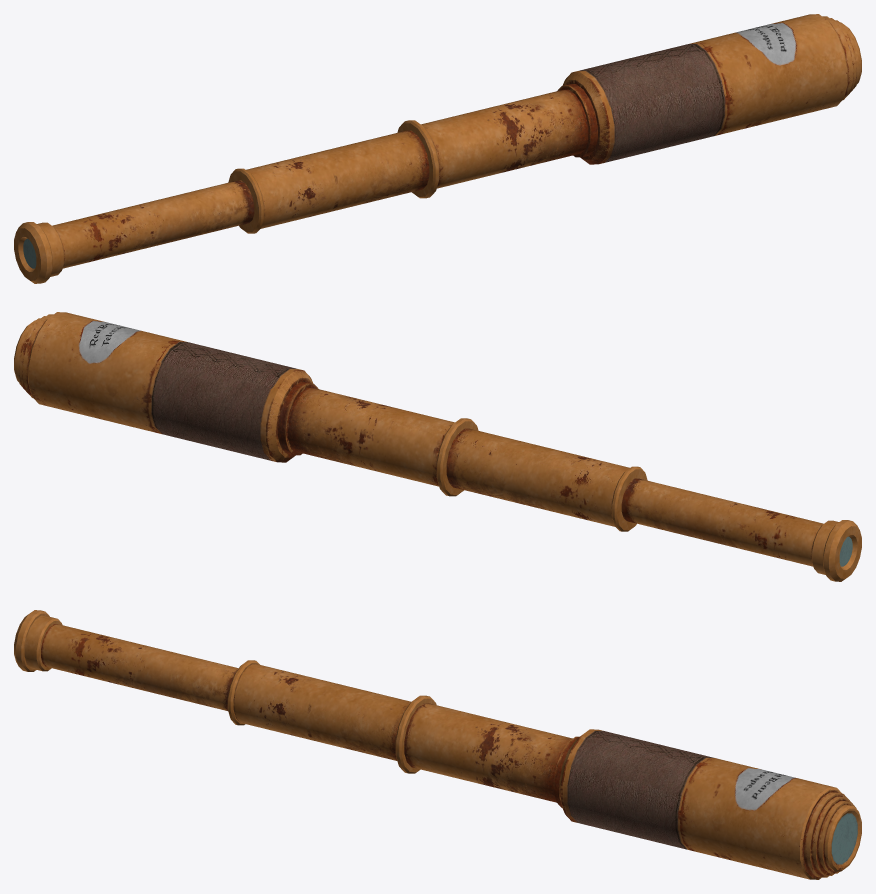
File: pirate_telescope.glb
3 views of the same model, one above another, from view 1: azimuth 30°, elevation 25°; view 2: azimuth 150°, elevation 25°; view 3: azimuth 330°, elevation 25° (orthographic).
Parts seen in each view (by area): view 1: Cylinder; view 2: Cylinder; view 3: Cylinder.
Boxes of the visible parts, box(x1,y1,x2,y2) form: Cylinder: box(14, 14, 861, 283); Cylinder: box(14, 312, 861, 581); Cylinder: box(14, 610, 861, 879).
Bounding box in the file's own units: 2 × 0.1993 × 0.1993.
Materials: 1 (1 with a texture image).
